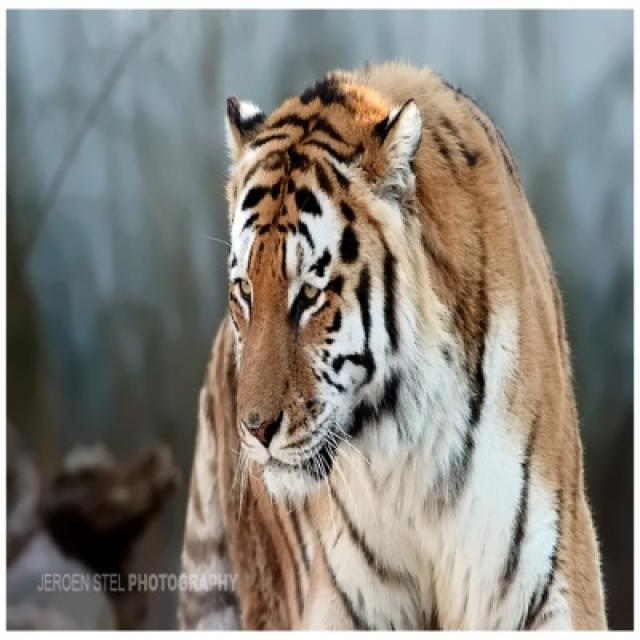Tiger: (178, 59, 612, 629)
